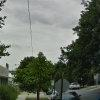Tree: (61, 3, 100, 86)
